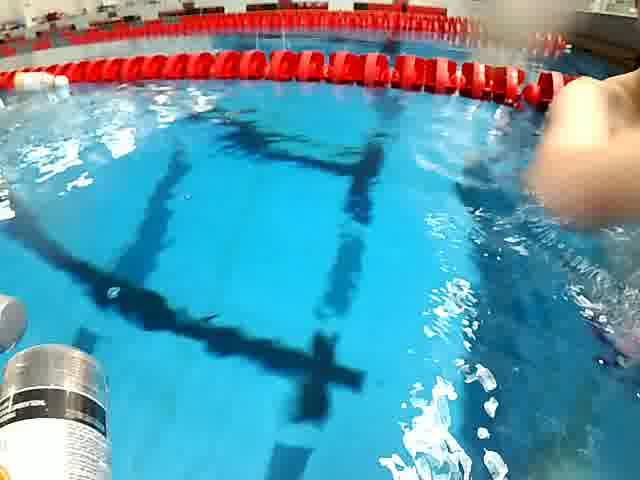Bottle: (0, 278, 38, 346), (0, 69, 74, 93)
Can: (0, 343, 135, 475)
